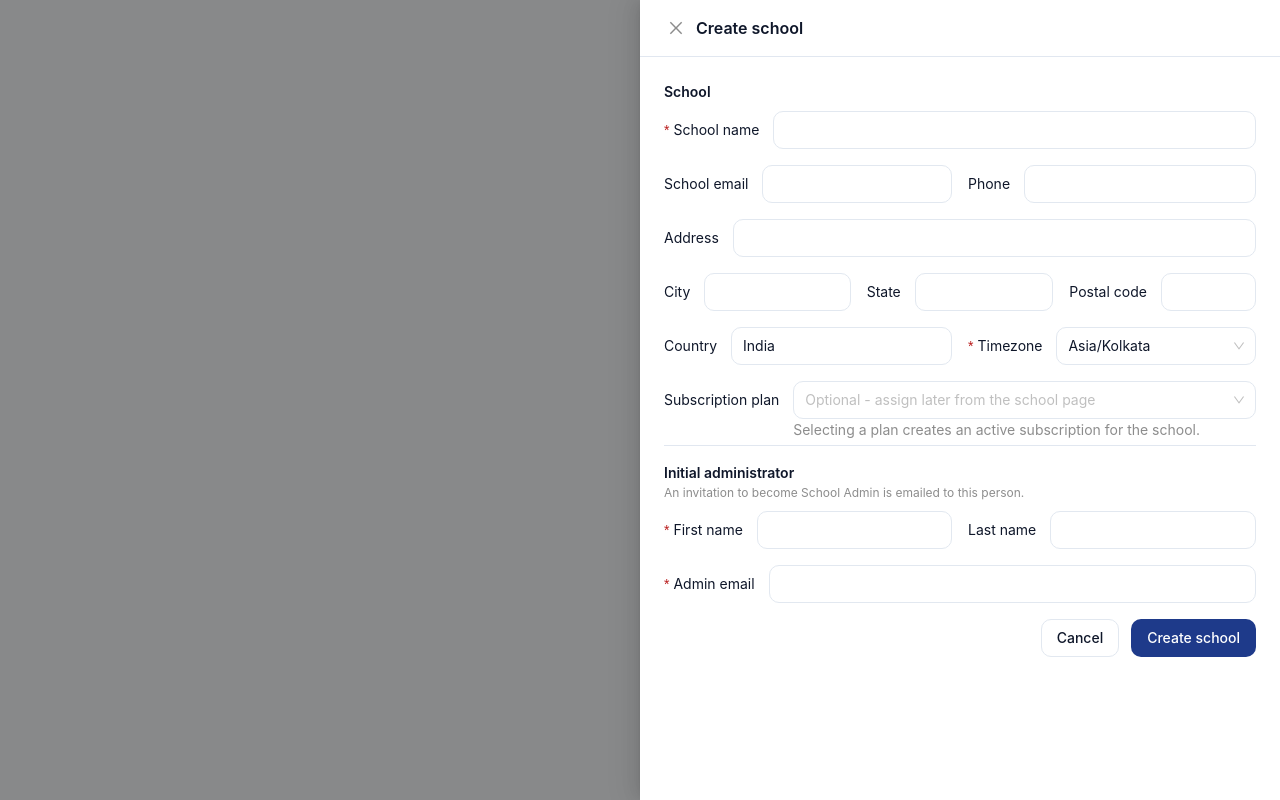
CreateSchoolDrawer › validates required fields client-side before calling the API
Click the button "Create school": (1194, 638) [1131,619,1256,657]
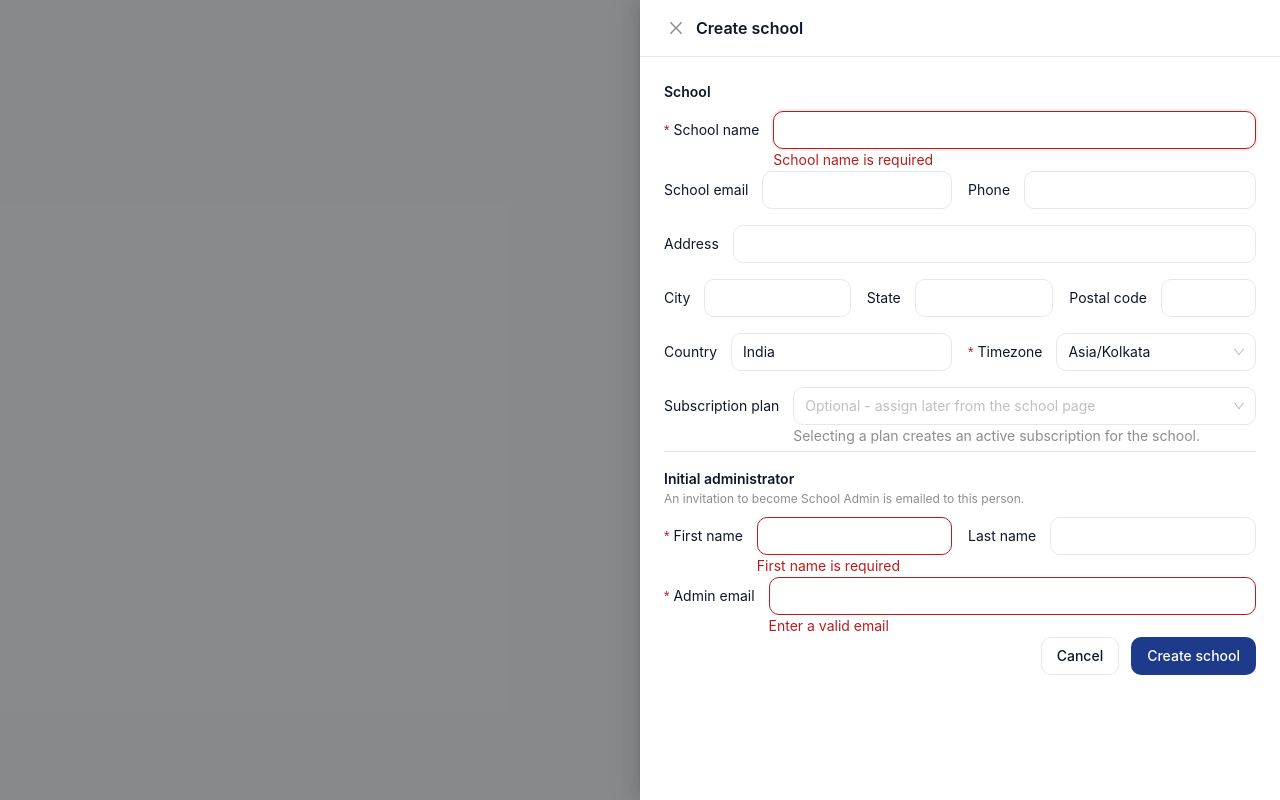
expect the text "School name is required" is shown: met, box [773,151,933,168]
expect the text "First name is required" is shown: met, box [757,557,900,574]
expect the text "Enter a valid email" is shown: met, box [769,617,889,634]
